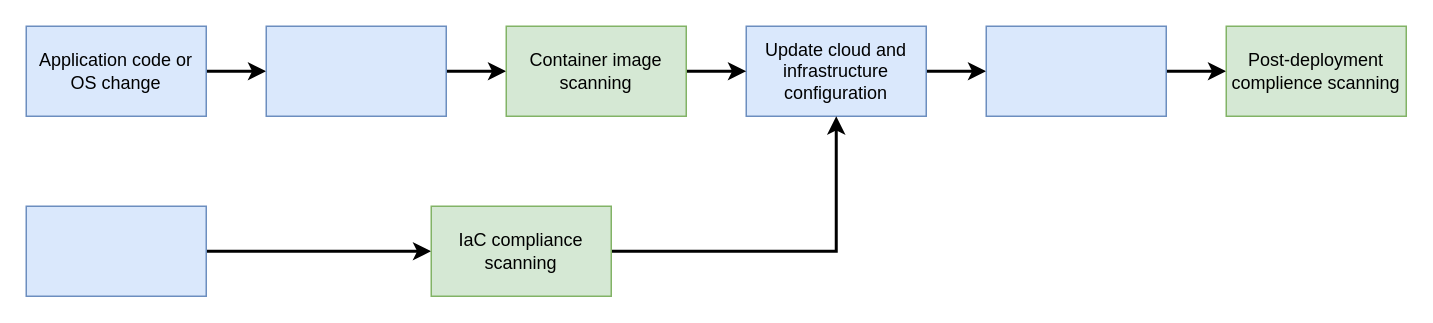
This 1433x323 diagram has some shape labels left out. Here are the shapes that lost their labels. From the top down, the centre of each, then its label:
the point at 355,70: Build application container or OS image
the point at 1075,70: Deploy cloud configuration or application to environment
the point at 115,250: Infrastructure code change
